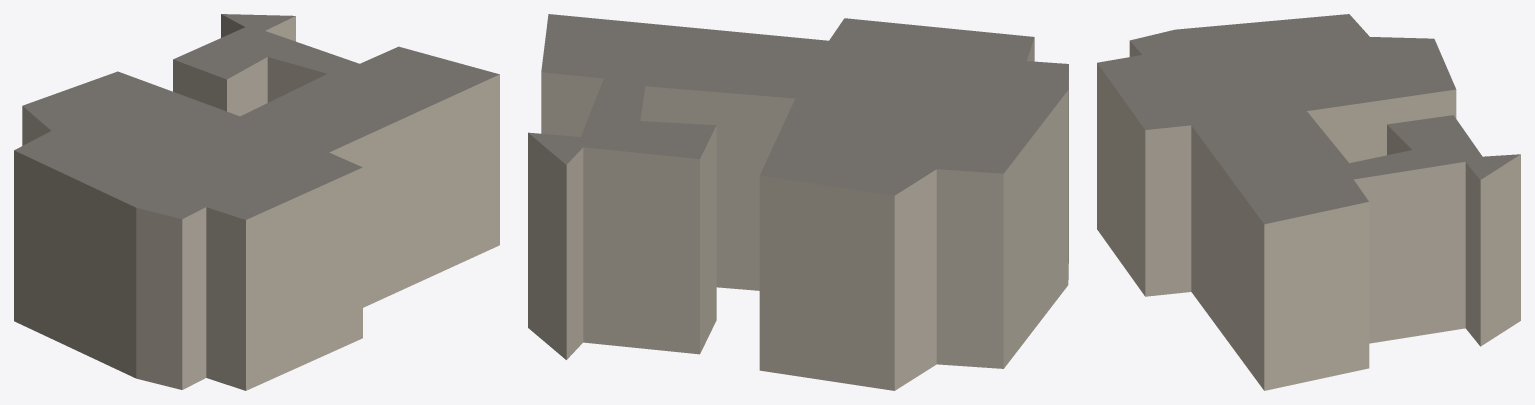
3 views of the same model, side by side, from view 1: azimuth 30°, elevation 25°; view 2: azimuth 150°, elevation 25°; view 3: azimuth 270°, elevation 25° (orthographic). The views are drawn at different scales.
Parts seen in each view (by area): view 1: HP-w1512359814; view 2: HP-w1512359814; view 3: HP-w1512359814.
Part boxes in pixels (x1,y1,x2,y2): HP-w1512359814: (14, 14, 499, 390); HP-w1512359814: (528, 14, 1068, 390); HP-w1512359814: (1097, 14, 1520, 390).
Bounding box in the file's own units: 48.74 × 18 × 41.5.
